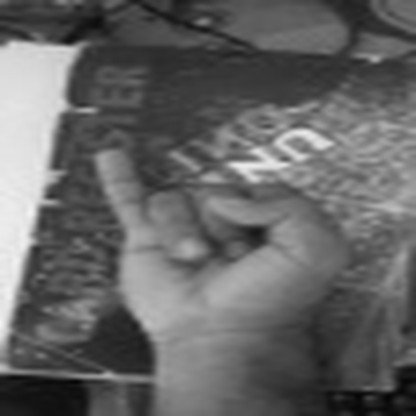i: (63, 136, 364, 347)
